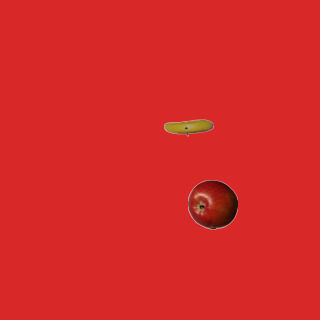Apple Braeburn: (187, 179, 237, 229)
Banana: (163, 102, 213, 152)
